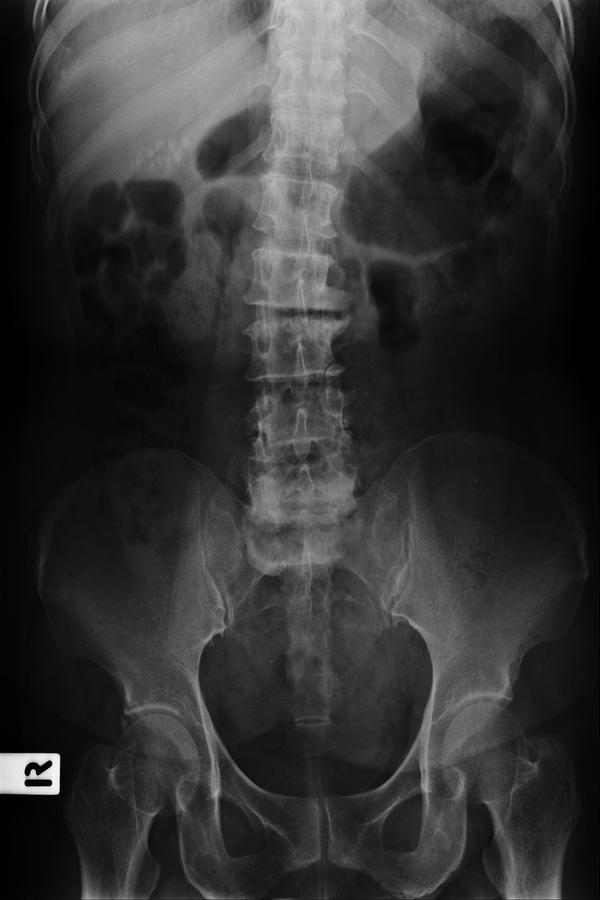lumbar scoliosis: (241, 13, 363, 507)
